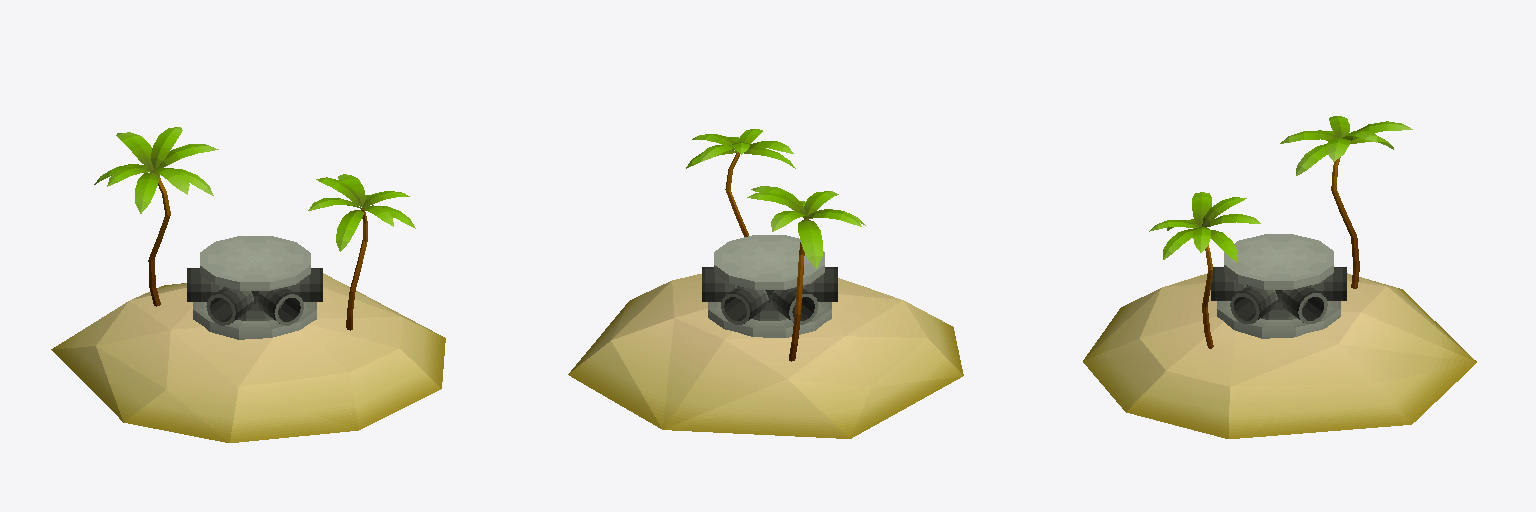
3 renders of one model, left to right at view 1: azimuth 30°, elevation 25°; view 2: azimuth 150°, elevation 25°; view 3: azimuth 270°, elevation 25°, orthographic.
Parts seen in each view (by area): view 1: Island, Trees, Bunker, Cannons; view 2: Island, Bunker, Trees, Cannons; view 3: Island, Bunker, Trees, Cannons.
Boxes of the visible parts, x1,y1,x2,y2 form: Island: [51, 273, 445, 442]; Trees: [94, 127, 415, 330]; Bunker: [193, 236, 316, 339]; Cannons: [187, 268, 322, 325]; Island: [568, 274, 963, 438]; Bunker: [708, 235, 831, 337]; Trees: [686, 129, 865, 361]; Cannons: [702, 267, 837, 324]; Island: [1083, 273, 1476, 438]; Bunker: [1217, 234, 1340, 338]; Trees: [1149, 116, 1412, 348]; Cannons: [1211, 267, 1346, 323].
Size of the model in its own units: 1.24 by 0.7473 by 1.29.
1 materials, 1 textured.